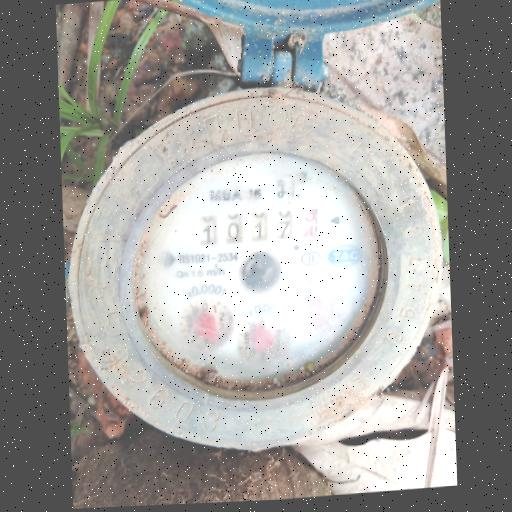0: (226, 212, 242, 243)
1: (199, 213, 216, 245), (250, 210, 267, 241)
3: (301, 207, 318, 238)
7: (276, 209, 292, 240)
border_water_meter_number: (197, 206, 318, 247)
